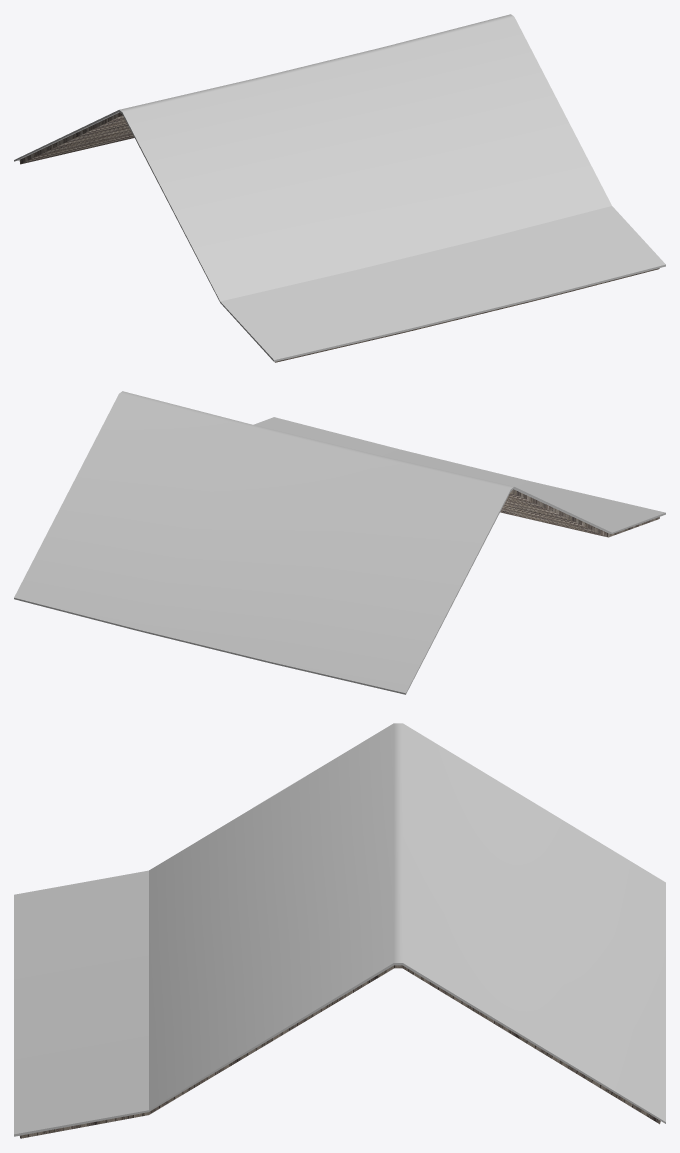
Rendered from cabinRoof_01_LOD2.FBX.
3 renders of one model, top to bottom at view 1: azimuth 30°, elevation 25°; view 2: azimuth 150°, elevation 25°; view 3: azimuth 270°, elevation 25°, orthographic. The views are drawn at different scales.
Parts seen in each view (by area): view 1: cabinRoof_01_LOD2; view 2: cabinRoof_01_LOD2; view 3: cabinRoof_01_LOD2.
Part boxes in pixels (bbox=[...]): cabinRoof_01_LOD2: bbox=[14, 14, 665, 362]; cabinRoof_01_LOD2: bbox=[14, 391, 665, 694]; cabinRoof_01_LOD2: bbox=[14, 723, 665, 1138].
Size of the model in its own units: 46.27 by 16.23 by 53.19.
